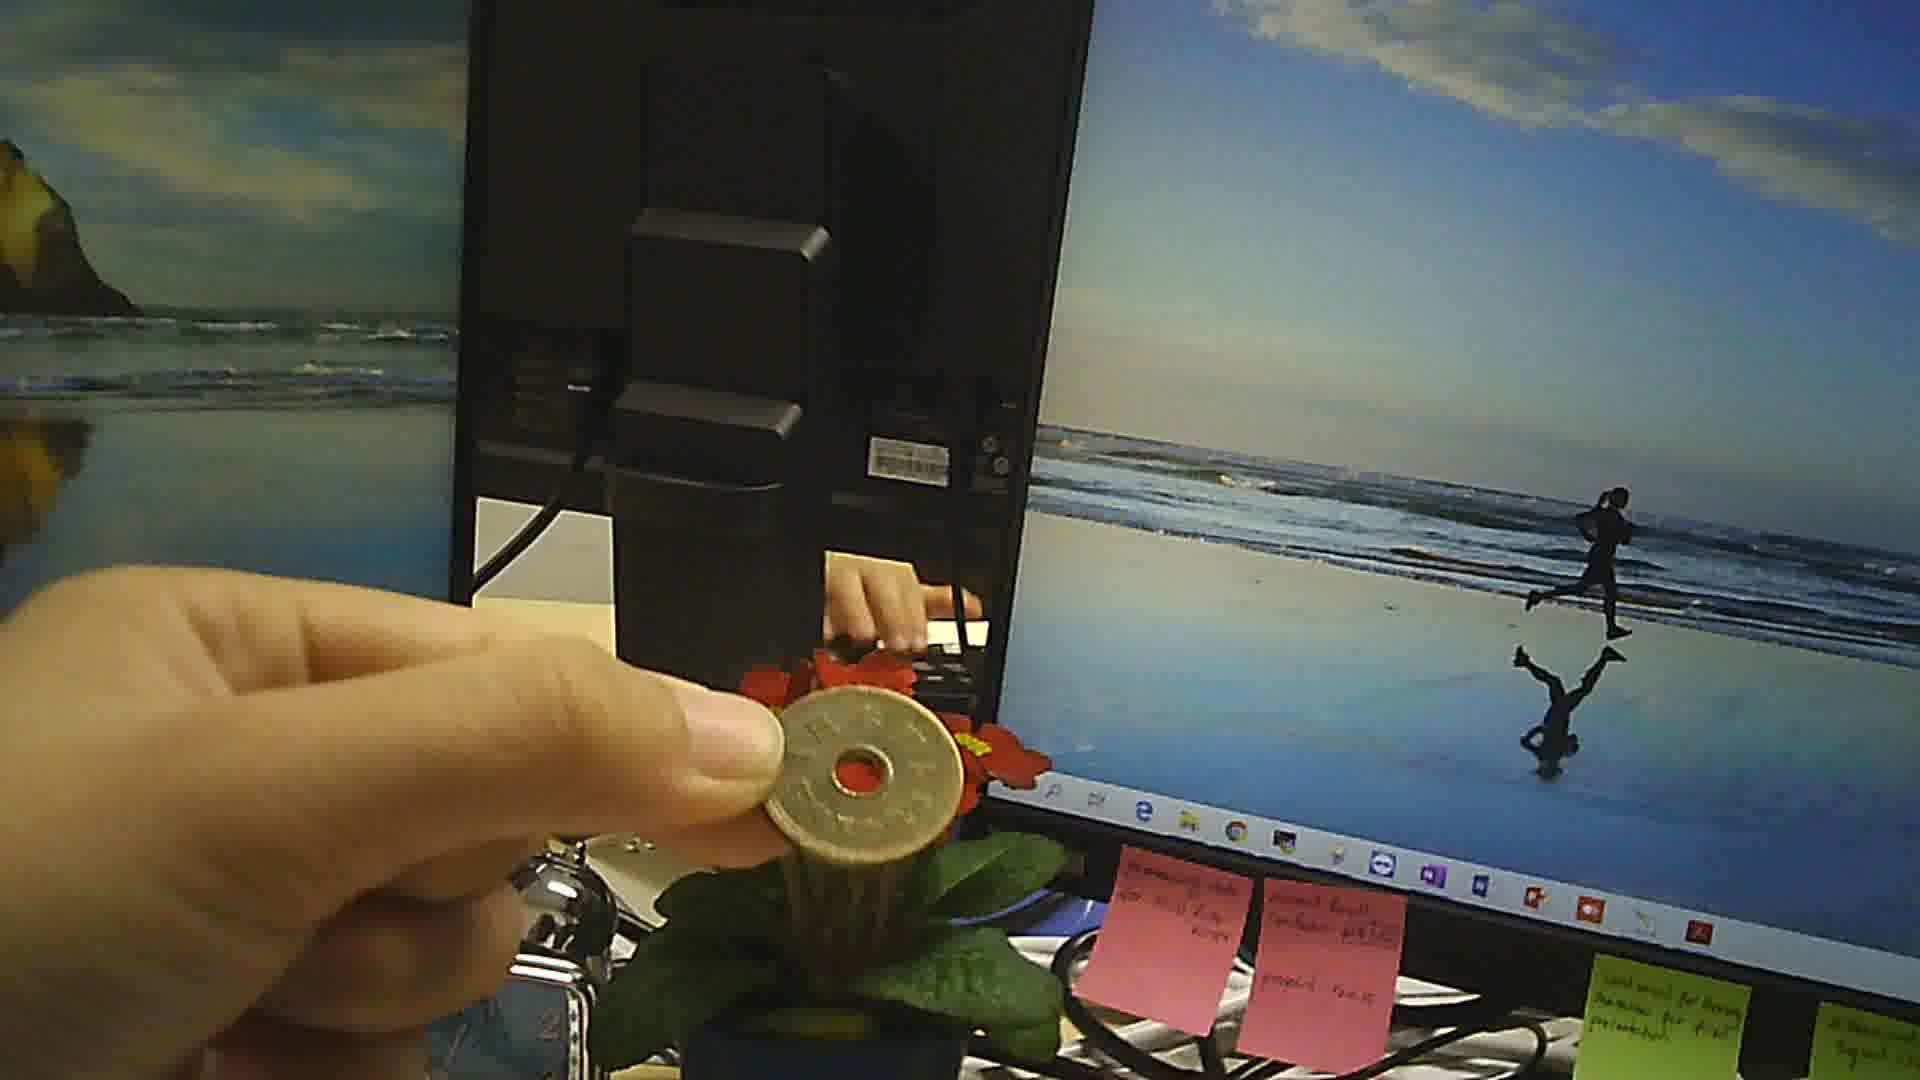5 Yen: (760, 671, 972, 861)
